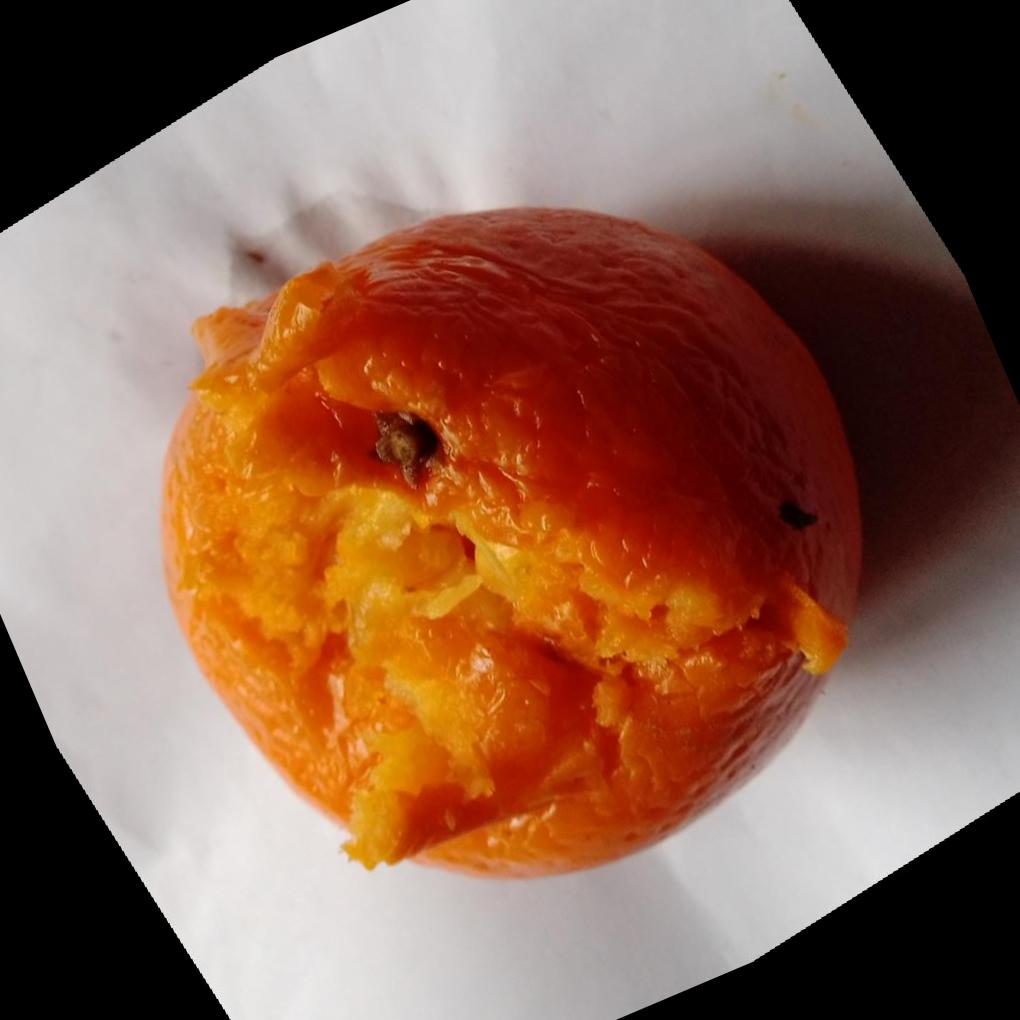FreshOrange: (161, 201, 870, 881)
